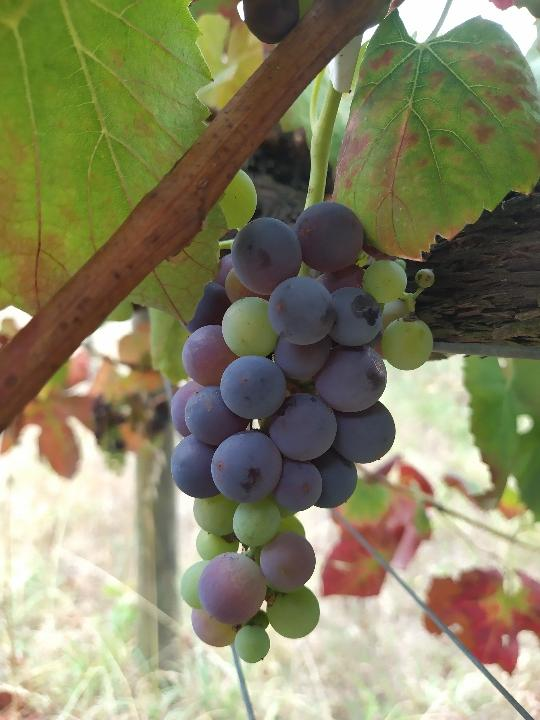grape: (166, 199, 438, 666)
